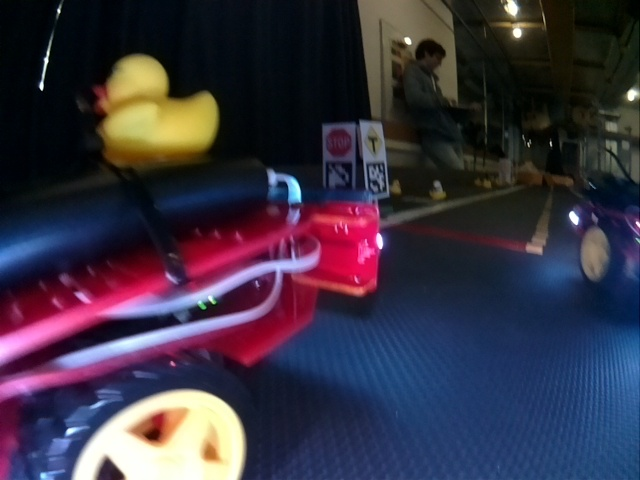Duckie: (93, 54, 217, 168), (392, 179, 402, 193)
Duckiebot: (2, 167, 324, 476), (570, 172, 639, 288)
Intersection sign: (362, 126, 384, 158)
QR code: (325, 161, 351, 193)
Stop sign: (326, 128, 352, 158)
